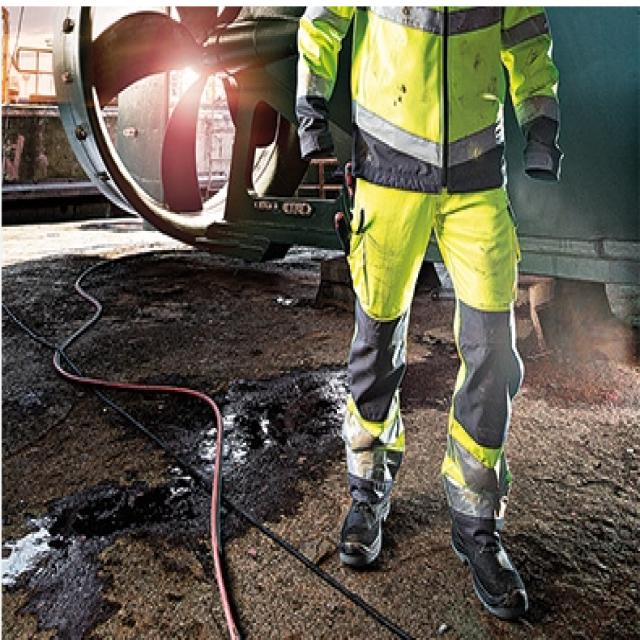shoes: (327, 440, 533, 627)
vest: (286, 3, 573, 198)
